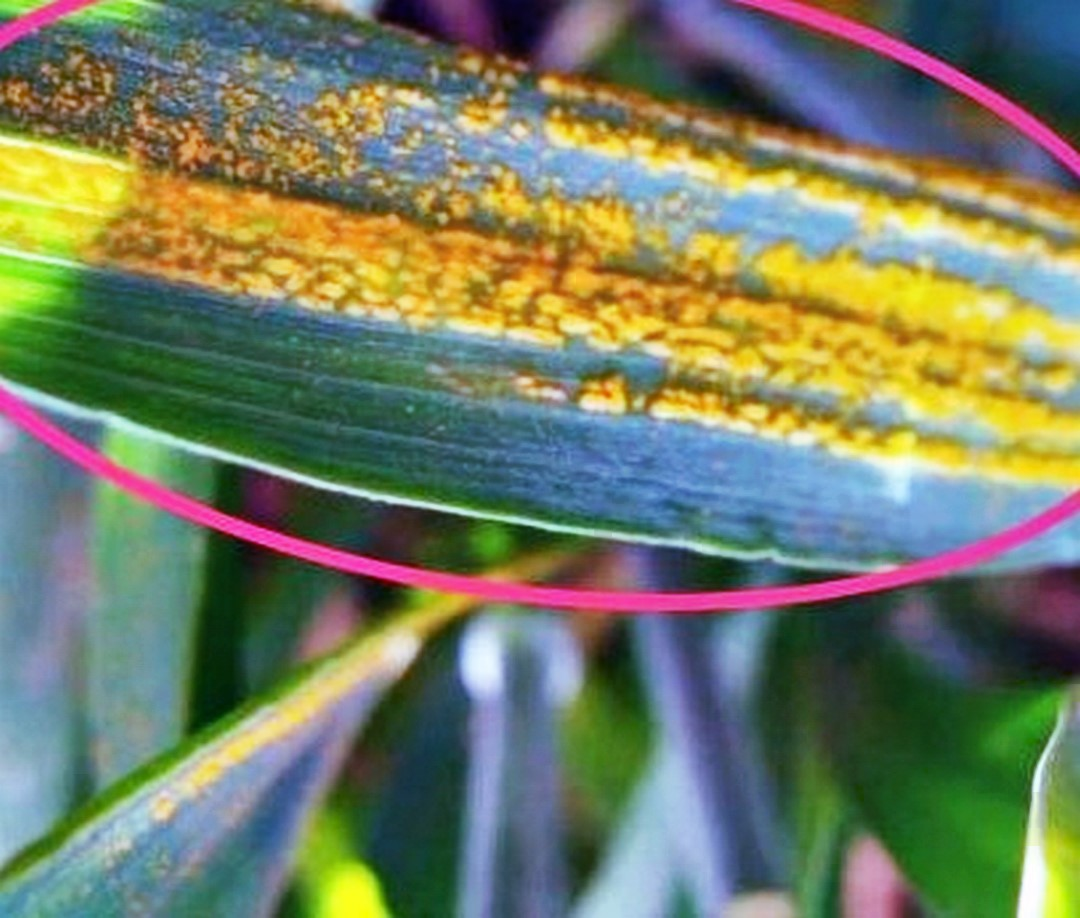Leaf Rust: (40, 31, 1018, 471)
